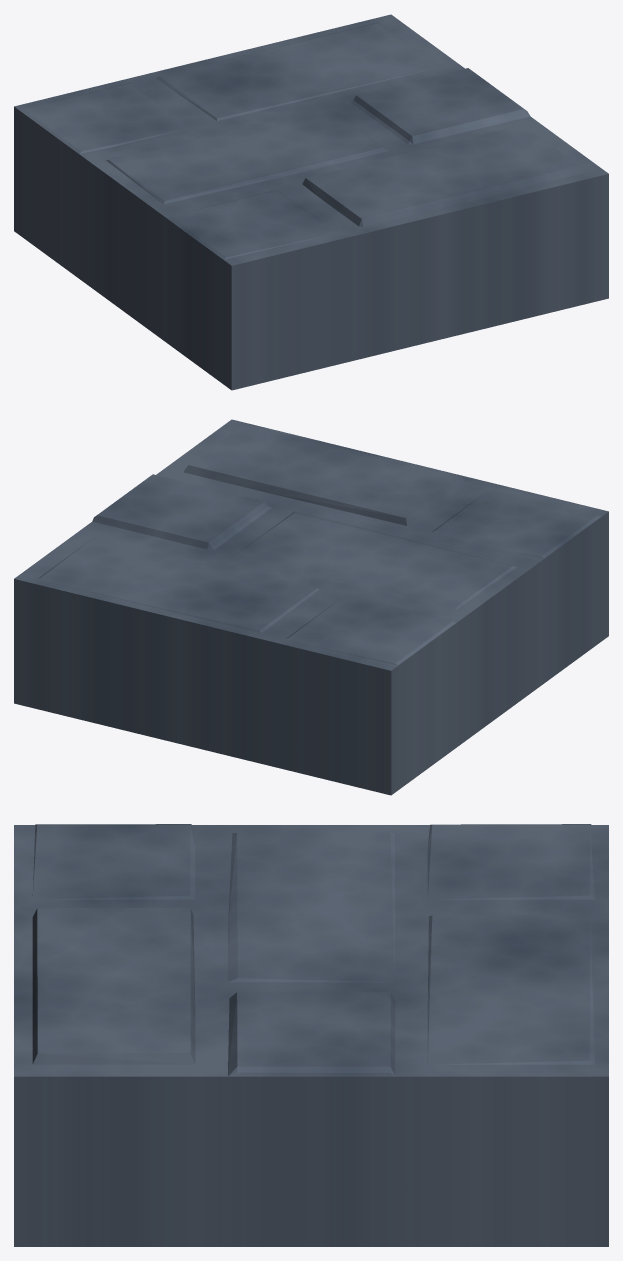
Rendered from BricksTile2.glb.
The picture shows the model from 3 angles, top to bottom: view 1: azimuth 30°, elevation 25°; view 2: azimuth 150°, elevation 25°; view 3: azimuth 270°, elevation 25°; orthographic projection. The views are drawn at different scales.
Visible parts, largest first — view 1: BricksTile2; view 2: BricksTile2; view 3: BricksTile2.
Part boxes in pixels (x1,y1,x2,y2): BricksTile2: [14, 14, 608, 390]; BricksTile2: [14, 419, 608, 795]; BricksTile2: [14, 824, 608, 1246].
Size of the model in its own units: 2 by 0.6668 by 2.
Materials: 1 (1 with a texture image).
